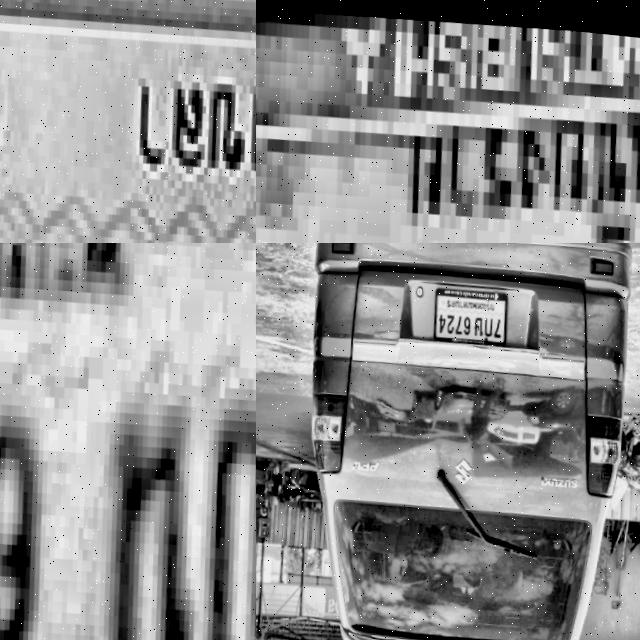license-plate: (0, 243, 256, 640), (256, 0, 640, 243), (0, 0, 256, 243), (432, 275, 513, 344)
